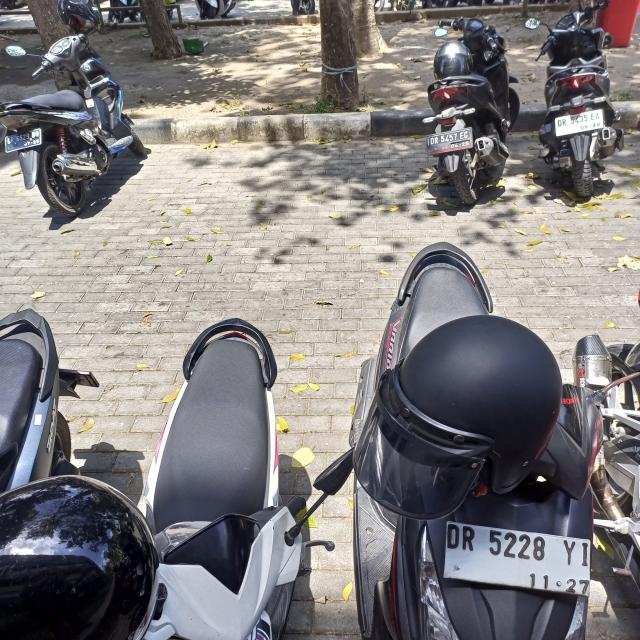plate: (440, 518, 594, 599), (554, 107, 605, 139), (427, 126, 474, 156), (4, 126, 41, 154)
